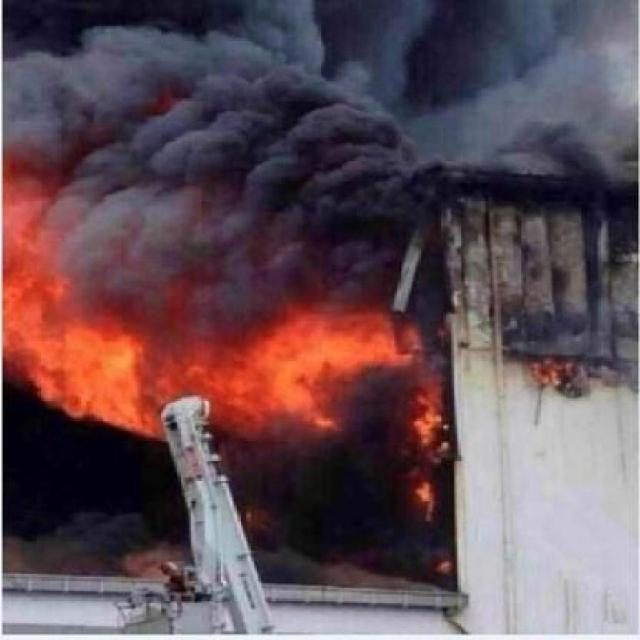Fire: (2, 168, 446, 456), (414, 464, 434, 515)
Smoke: (5, 0, 640, 172)
